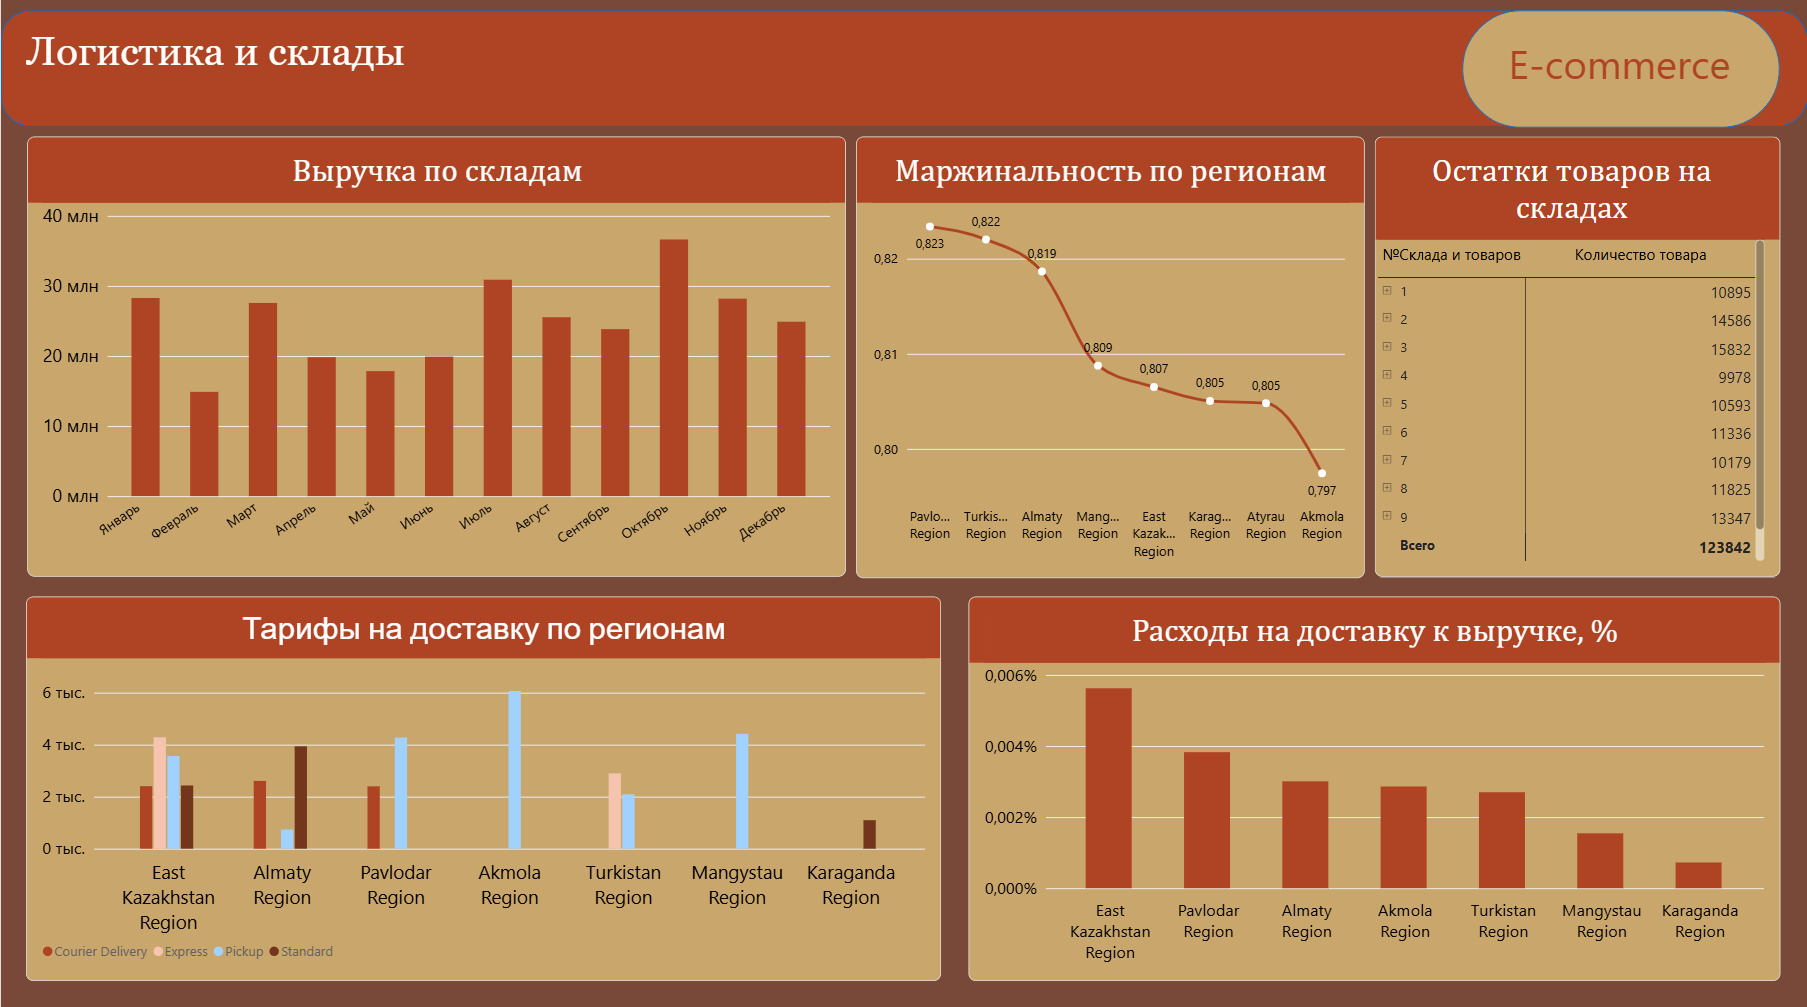

Layout of this report page (visuals, bound fields, positions):
{"tool":"powerbi","page":{"name":"Логистика и склады","canvas":[1920,1080],"ordinal":1},"visuals":[{"type":"shape","box":[0,17.3,1920.3,123.6],"z":0},{"type":"textbox","box":[26.6,35.9,417.3,87.7],"z":1000},{"type":"shape","box":[1553.5,17.3,337.5,124.9],"z":2000},{"type":"textbox","box":[1602.7,43.9,245.8,71.8],"z":3000},{"type":"pivotTable","title":"Остатки  товаров на складах","fields":{"Rows":["Student public_stocks.warehouse_id","Student public_stocks.item_id"],"Values":["Sum(Student public_stocks.quantity_in_stock)"]},"box":[1460.3,151.5,431.3,468.1],"z":3001},{"type":"columnChart","title":"Выручка по складам","fields":{"Category":["Student public_revenue_wb.warehouse_id","Student public_revenue_wb.date.Изменение.Иерархия дат.Год","Student public_revenue_wb.date.Изменение.Иерархия дат.Квартал","Student public_revenue_wb.date.Изменение.Иерархия дат.Месяц","Student public_revenue_wb.date.Изменение.Иерархия дат.День"],"Y":["Sum(Student public_revenue_wb.revenue_amount)"]},"box":[27.3,151.5,870.7,468.1],"z":3002},{"type":"clusteredColumnChart","title":"Тарифы на доставку по регионам","fields":{"Category":["Student tariffs_and_shipping.region"],"Series":["Student tariffs_and_shipping.shipping_method"],"Y":["Sum(Student tariffs_and_shipping.base_tariff)"]},"box":[26.9,640.8,972.8,408.9],"z":3003},{"type":"clusteredColumnChart","title":"Расходы на доставку к выручке, %","fields":{"Category":["Student tariffs_and_shipping.region"],"Y":["Меры.Shipping Cost Ratio"]},"box":[1029,640.8,863,408.9],"z":3004},{"type":"lineChart","title":"Маржинальность по регионам","fields":{"Category":["Student public_clients.region"],"Y":["Меры.Profit Margin %"]},"box":[909,151.5,540.5,469.5],"z":3005}]}

Visuals, with their boxes in screenshot pixels (x1, y1, x2, y2), scaled from the page's 1920x1080 canvas onto the 1807x1007 screenshot:
shape: bbox=[0, 16, 1806, 131]
textbox: bbox=[25, 33, 418, 115]
shape: bbox=[1462, 16, 1780, 133]
textbox: bbox=[1508, 41, 1740, 108]
"Остатки  товаров на складах" pivotTable: bbox=[1374, 141, 1780, 578]
"Выручка по складам" columnChart: bbox=[26, 141, 845, 578]
"Тарифы на доставку по регионам" clusteredColumnChart: bbox=[25, 597, 941, 979]
"Расходы на доставку к выручке, %" clusteredColumnChart: bbox=[968, 597, 1781, 979]
"Маржинальность по регионам" lineChart: bbox=[856, 141, 1364, 579]
